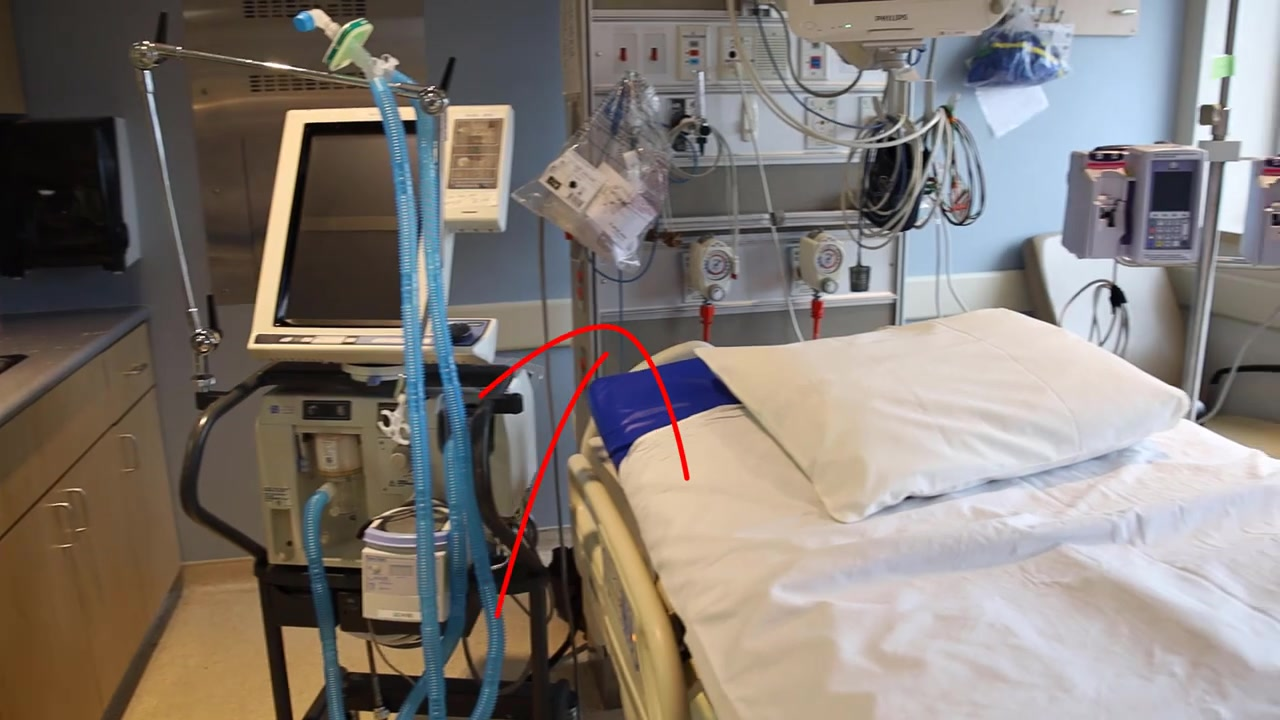bedrail: (568, 452, 688, 720)
breathing_tube: (293, 9, 507, 720)
chair: (1020, 229, 1280, 464)
counter: (1, 309, 184, 720)
countertop: (1, 306, 146, 424)
dispenser: (1, 118, 136, 268)
handle: (49, 498, 80, 551), (62, 480, 91, 536), (119, 432, 138, 475), (117, 363, 147, 379), (1111, 6, 1139, 18)
hospital_bed: (568, 308, 1280, 720)
infusion_pump: (1060, 141, 1208, 268)
iv_pole: (1182, 3, 1247, 401)
ventilator: (250, 105, 543, 625)
